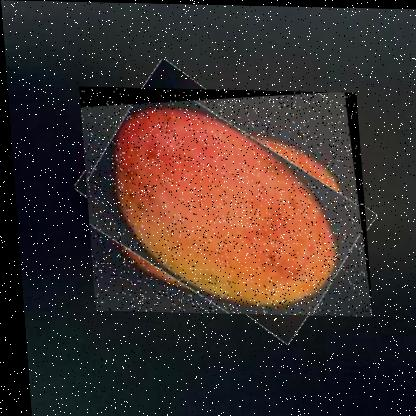mango: (76, 85, 367, 315)
